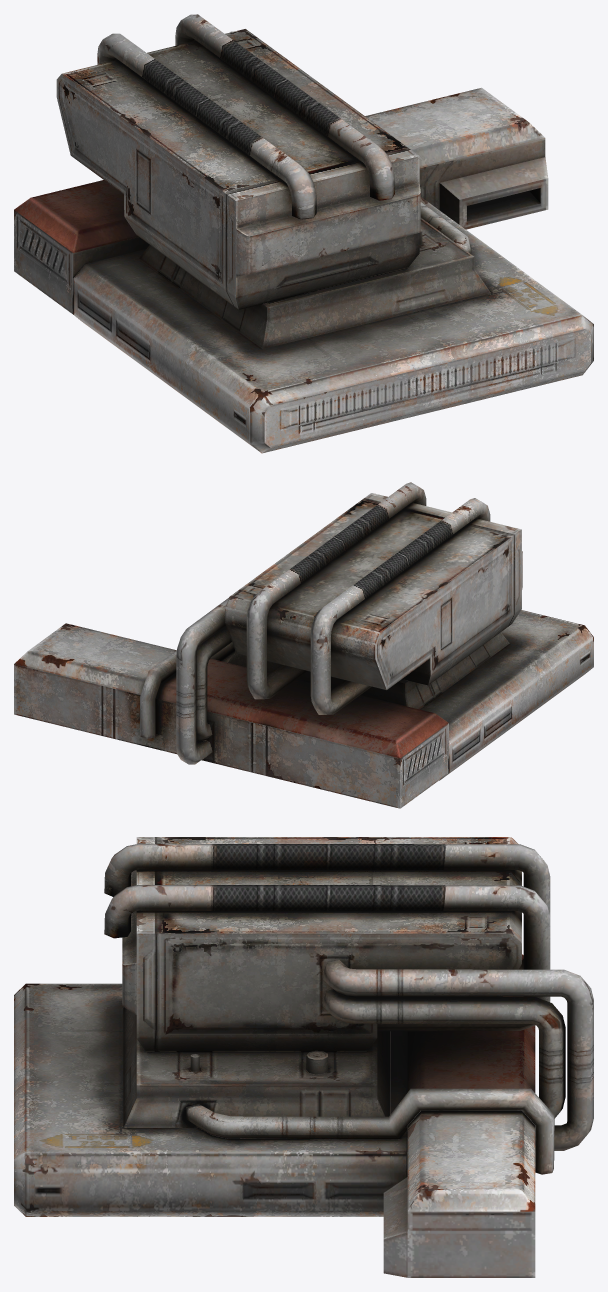
The model's file is computer_scanning_room_theta.DAE.
3 views of the same model, one above another, from view 1: azimuth 30°, elevation 25°; view 2: azimuth 150°, elevation 25°; view 3: azimuth 270°, elevation 25° (orthographic). The views are drawn at different scales.
Visible parts, largest first — view 1: computer_scanning_room_theta; view 2: computer_scanning_room_theta; view 3: computer_scanning_room_theta.
Boxes of the visible parts, <box> form: computer_scanning_room_theta: <box>14,14,593,453</box>; computer_scanning_room_theta: <box>14,482,593,808</box>; computer_scanning_room_theta: <box>14,837,593,1277</box>.
Size of the model in its own units: 33.78 by 15.77 by 33.37.
